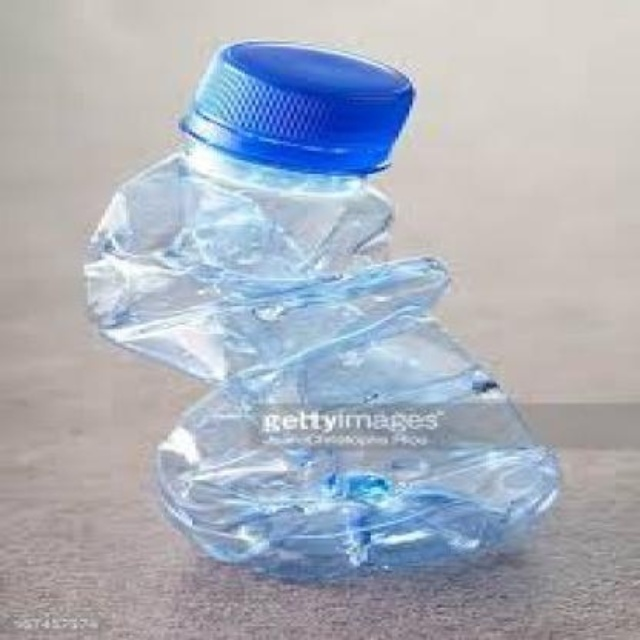trash: (85, 42, 557, 577)
